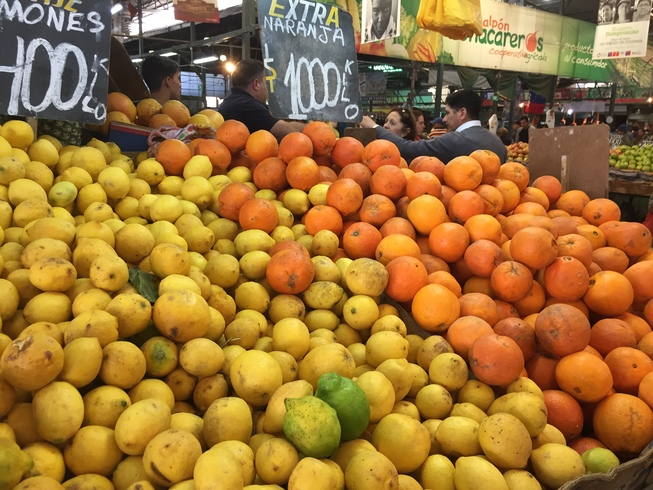precio: (1, 1, 110, 124), (256, 1, 365, 119)
